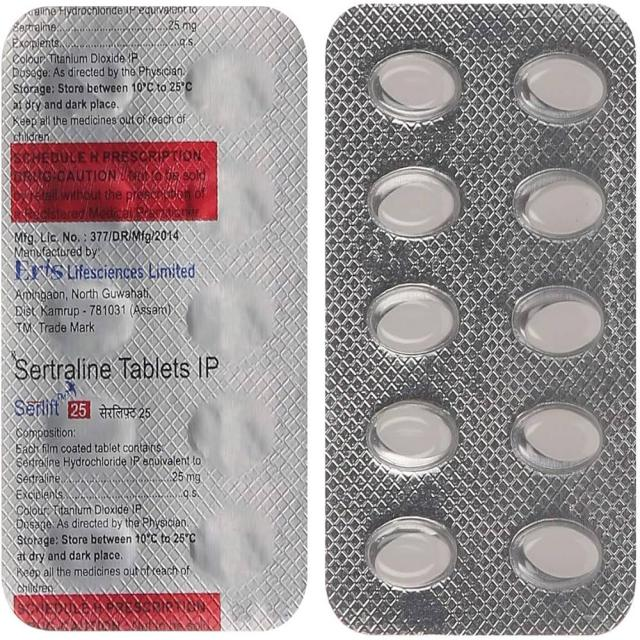Medicine-name: (12, 353, 221, 386)
